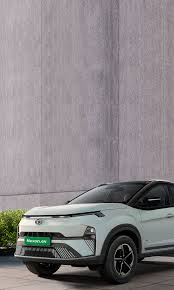Tata Nexon: (14, 180, 174, 290)
